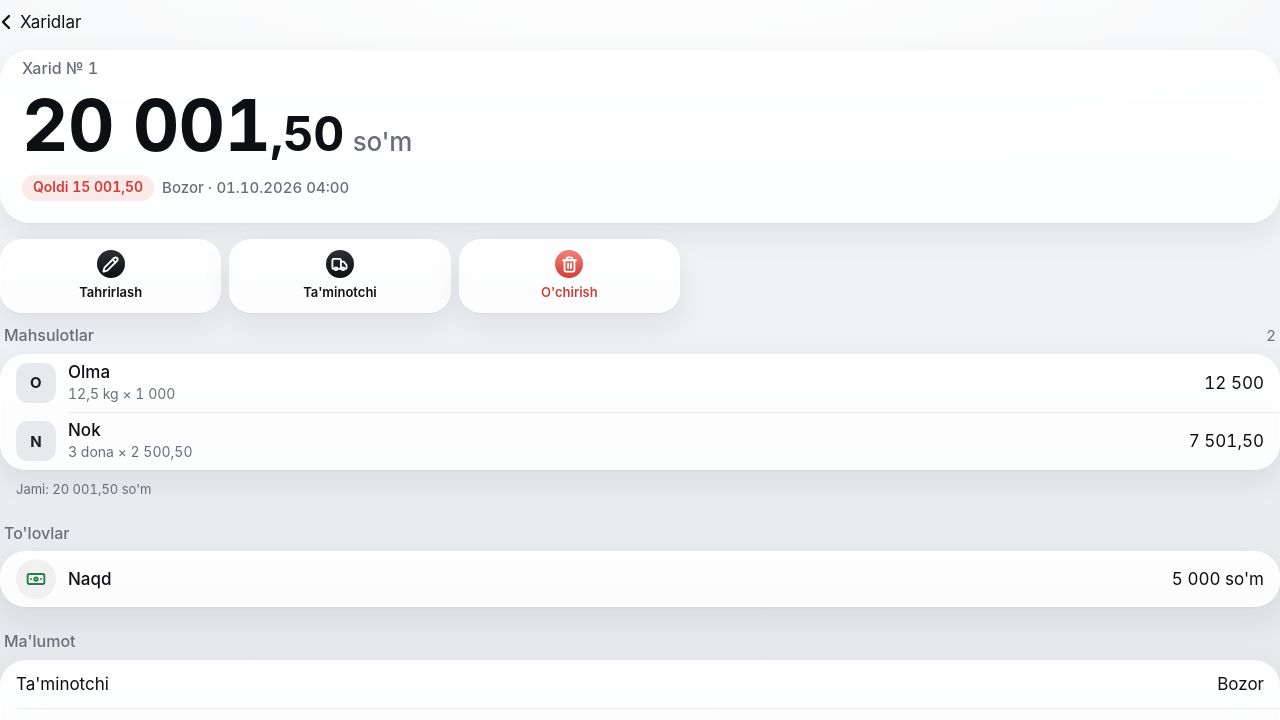
deleting the purchase gives the stock back and leads to the list
Click the button "O'chirish" at (569, 276), box [459,239,680,313]
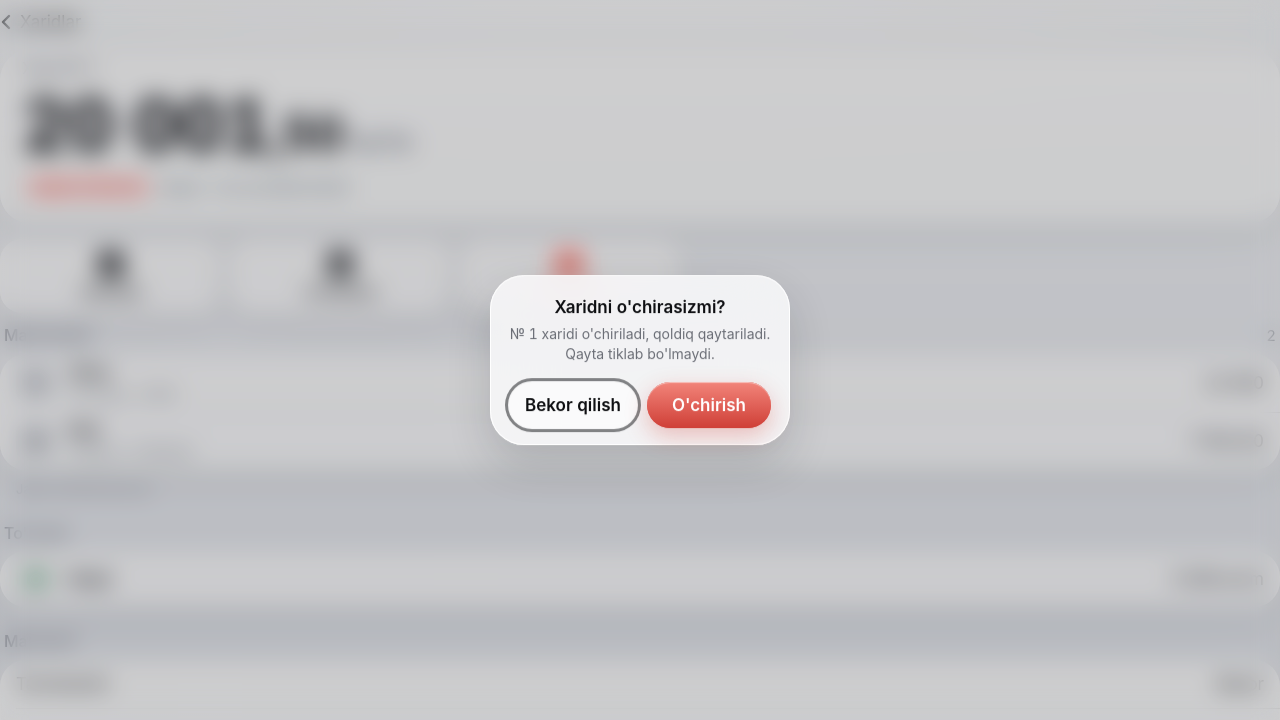
Now the text "№ 1 xaridi o'chiriladi, qoldiq qaytariladi. Qayta tiklab bo'lmaydi." is shown, box [508,324,772,363]
Click the button "O'chirish" at (709, 405), box [646,381,772,429]
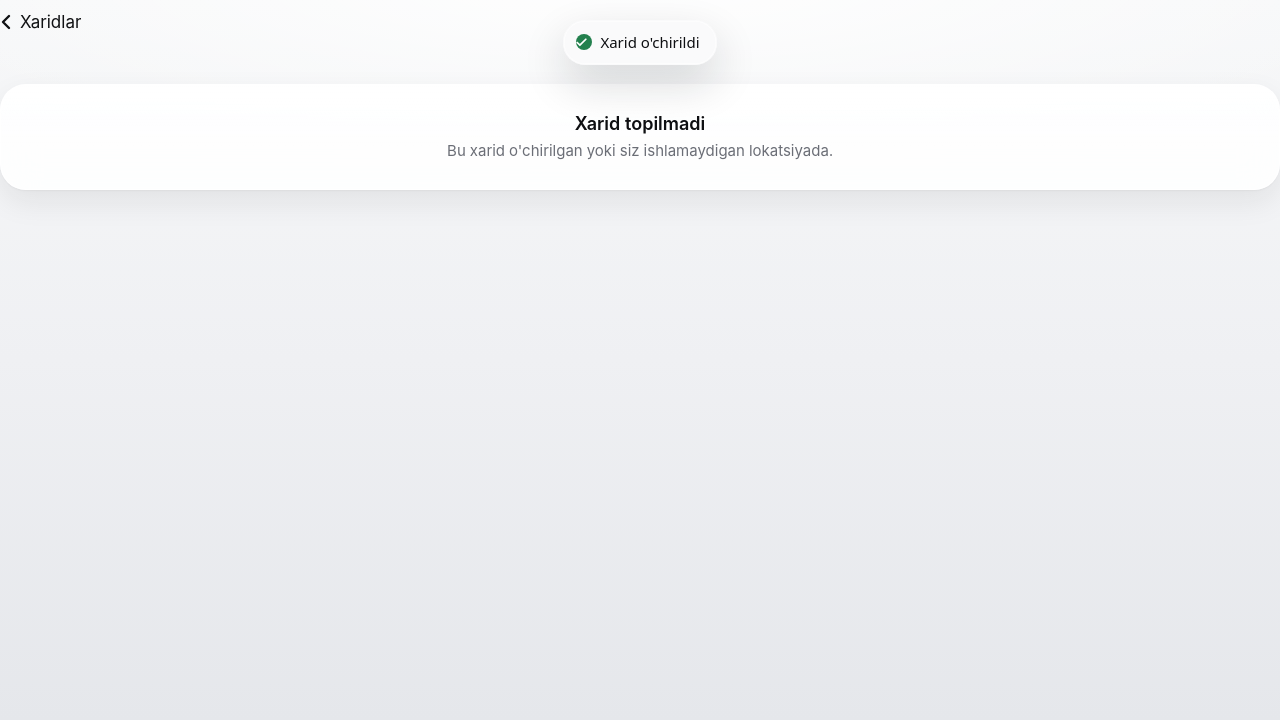
Now the text "Xarid o'chirildi" is shown, box [600,31,700,54]
